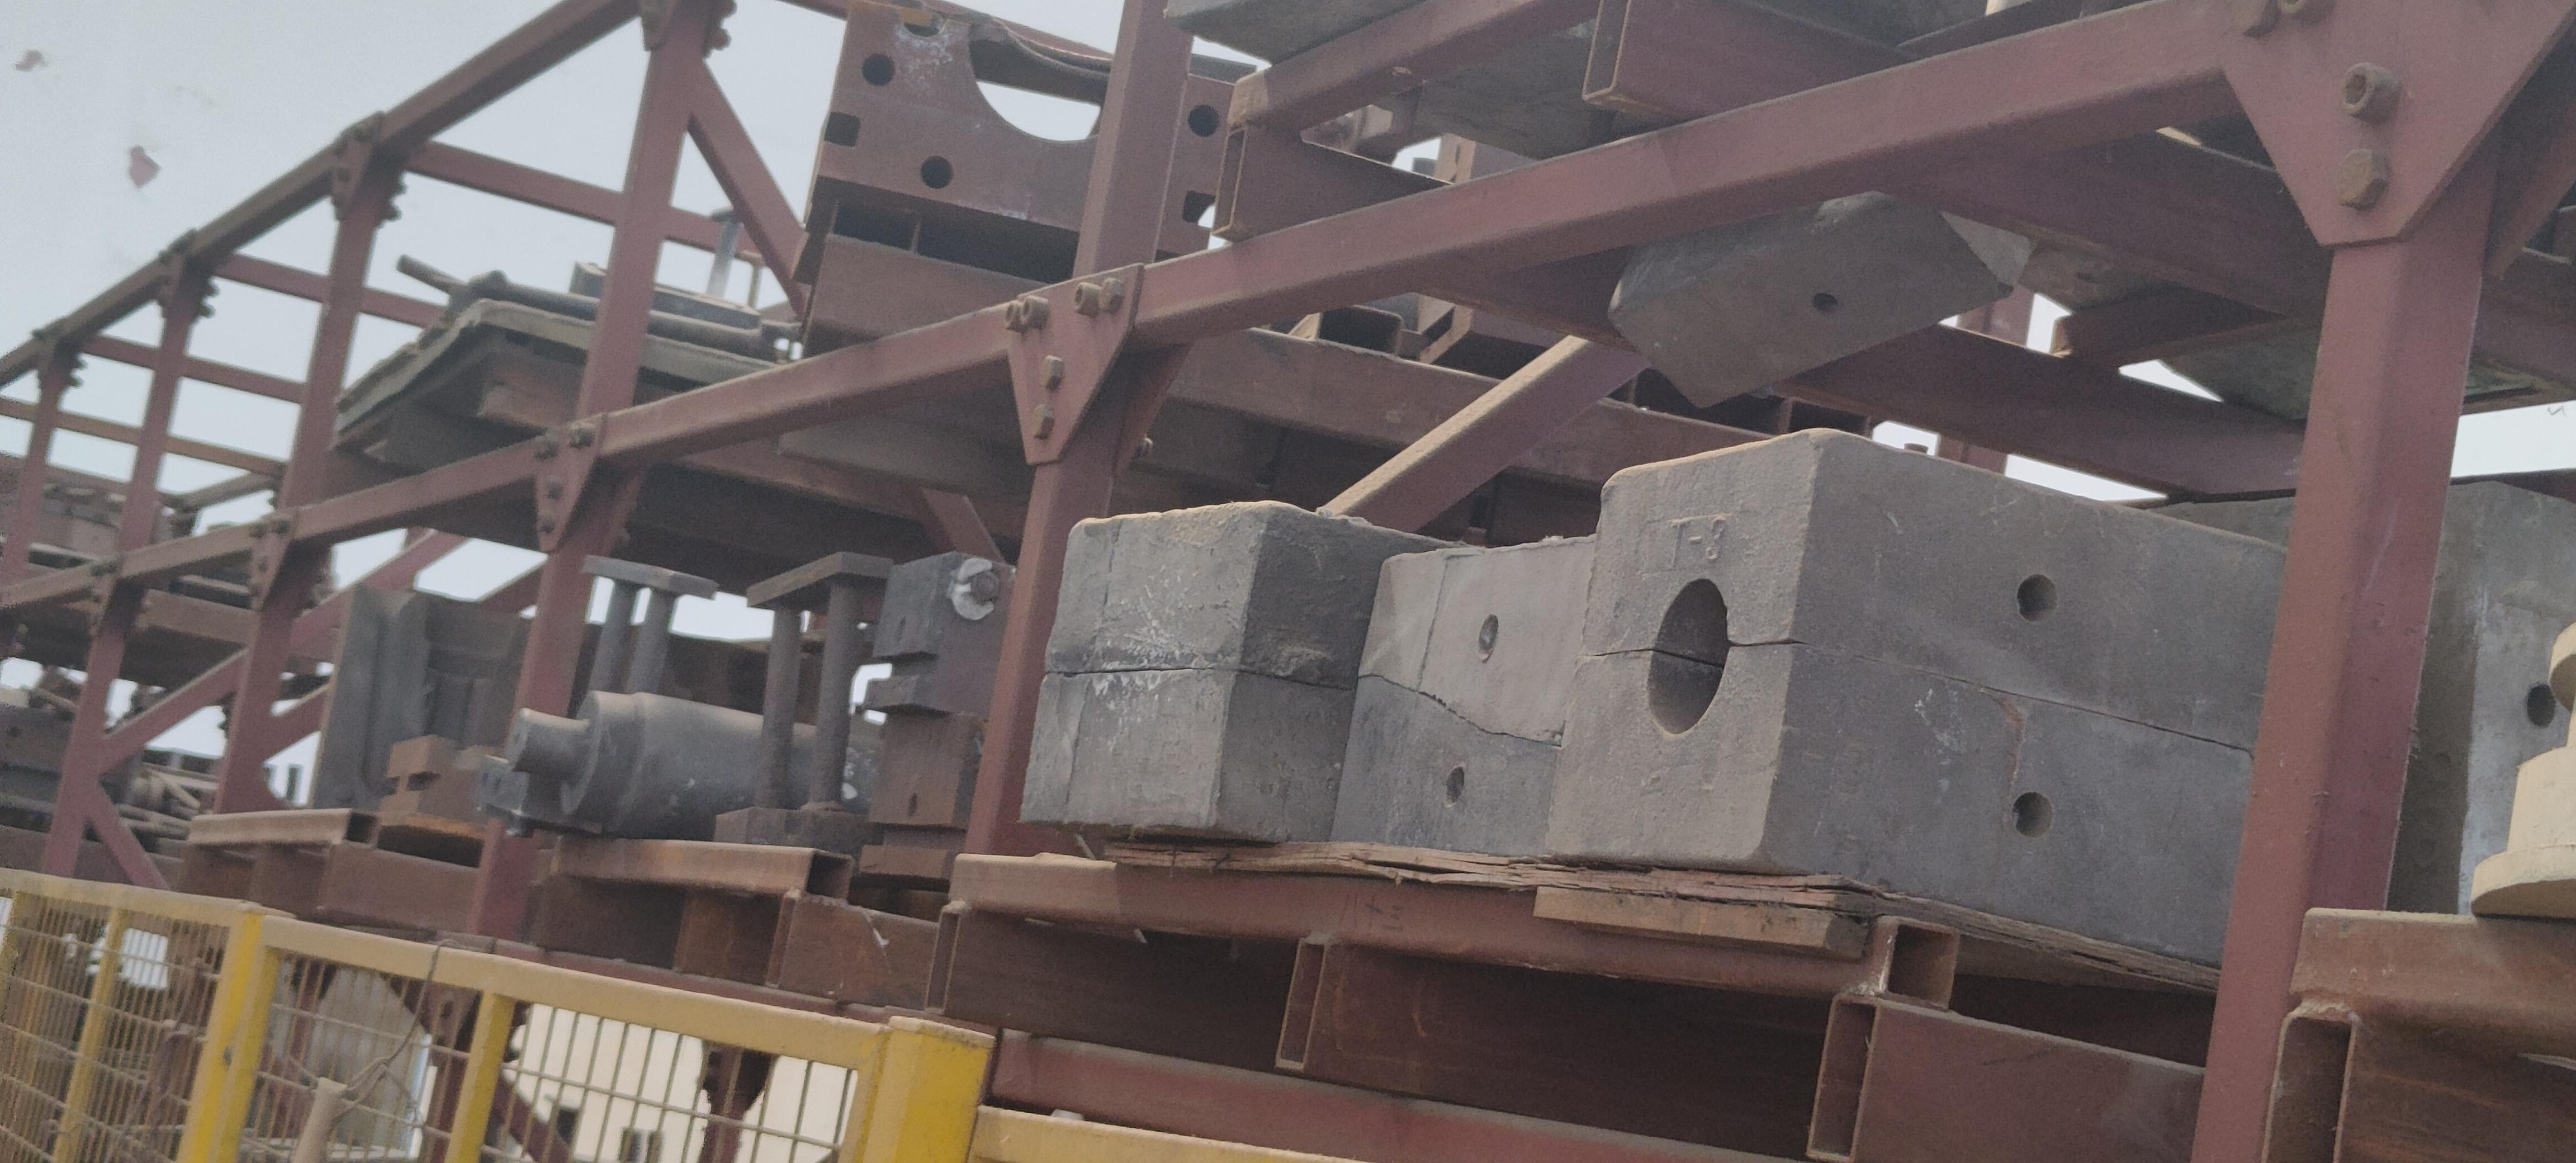pouring hole: (1646, 577, 1730, 736)
